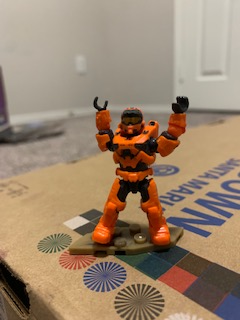spartan: (89, 96, 192, 245)
up: (89, 94, 190, 168)
